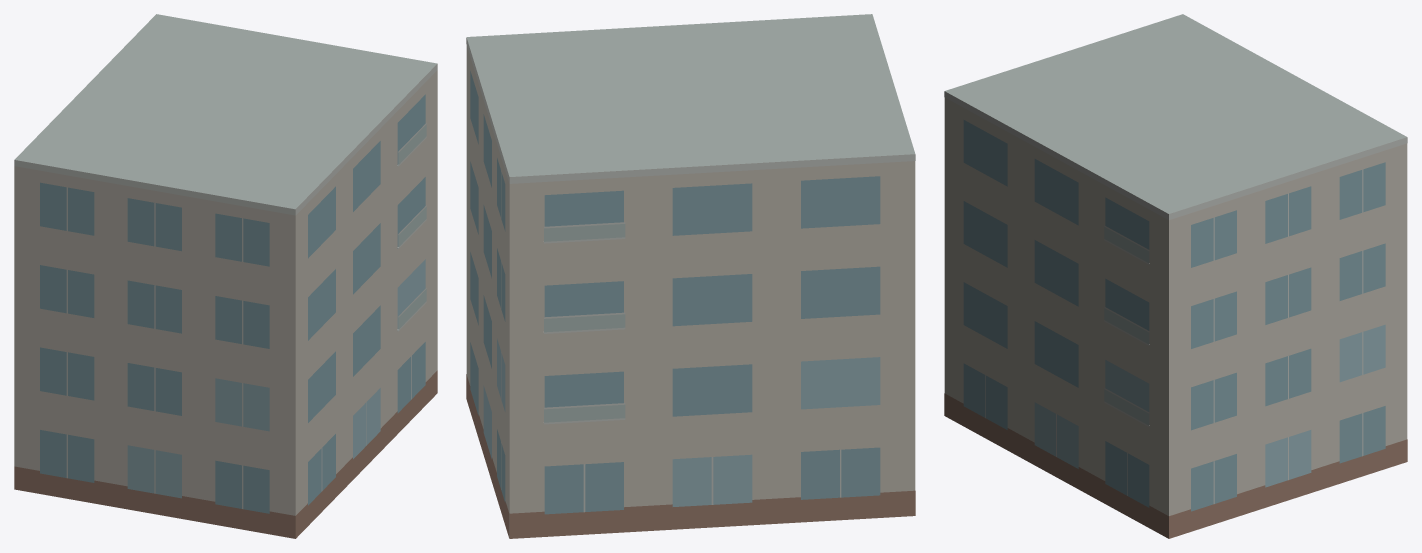
Rendered from survey-upis-32712653.glb.
3 views of the same model, side by side, from view 1: azimuth 30°, elevation 25°; view 2: azimuth 150°, elevation 25°; view 3: azimuth 270°, elevation 25° (orthographic). The views are drawn at different scales.
Visible parts, largest first — view 1: survey-upis-32712653.tmp; view 2: survey-upis-32712653.tmp; view 3: survey-upis-32712653.tmp.
Boxes of the visible parts, x1=… form: survey-upis-32712653.tmp: x1=14, y1=14, x2=437, y2=538; survey-upis-32712653.tmp: x1=466, y1=14, x2=915, y2=538; survey-upis-32712653.tmp: x1=944, y1=14, x2=1407, y2=538.
Bounding box in the file's own units: 17.06 × 12.9 × 16.68.
